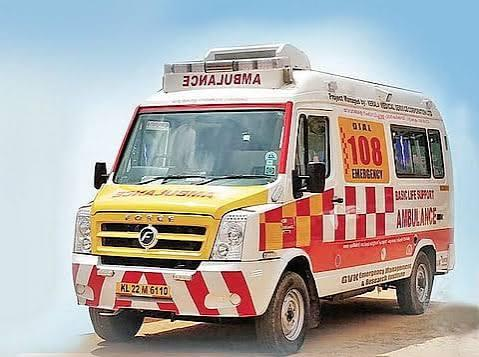ambulance: (71, 42, 452, 353)
